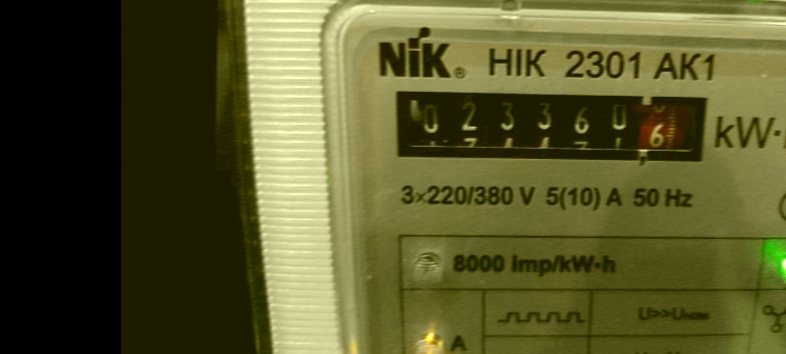0: (421, 100, 443, 134), (612, 100, 630, 131)
2: (459, 98, 483, 132)
3: (497, 99, 519, 131), (536, 98, 556, 130)
6: (572, 102, 593, 134), (647, 118, 668, 148)
screen: (378, 73, 722, 176)
